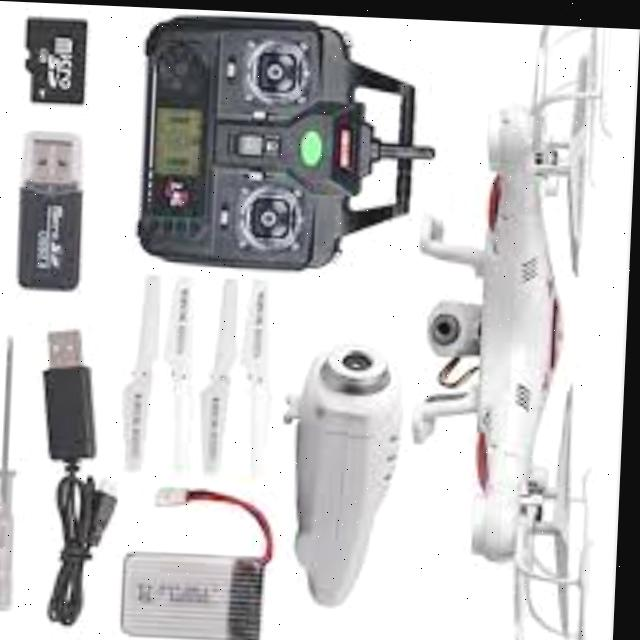drone: (394, 15, 630, 640)
